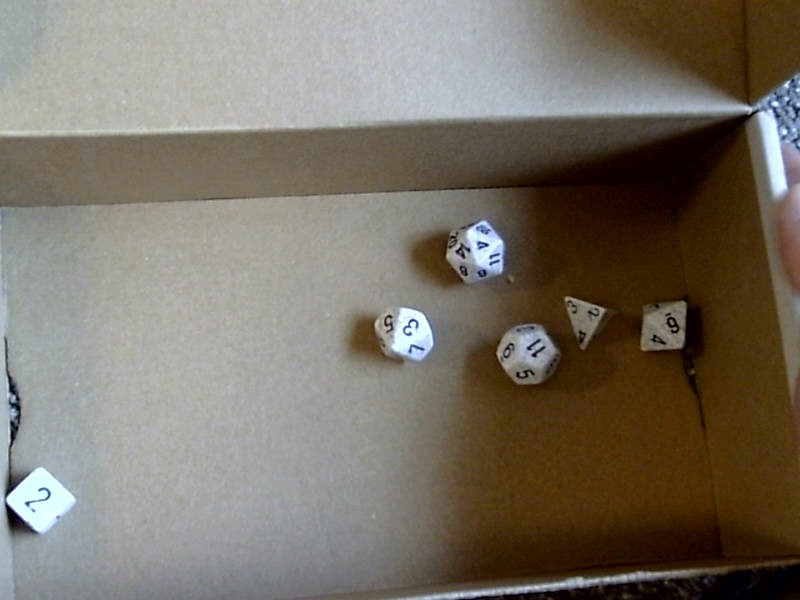d10 3: (364, 302, 437, 362)
d12 11: (490, 322, 560, 389)
d20 4: (441, 213, 506, 284)
d4 2: (562, 288, 618, 353)
d6 2: (0, 461, 86, 540)
d8 6: (637, 290, 695, 357)
